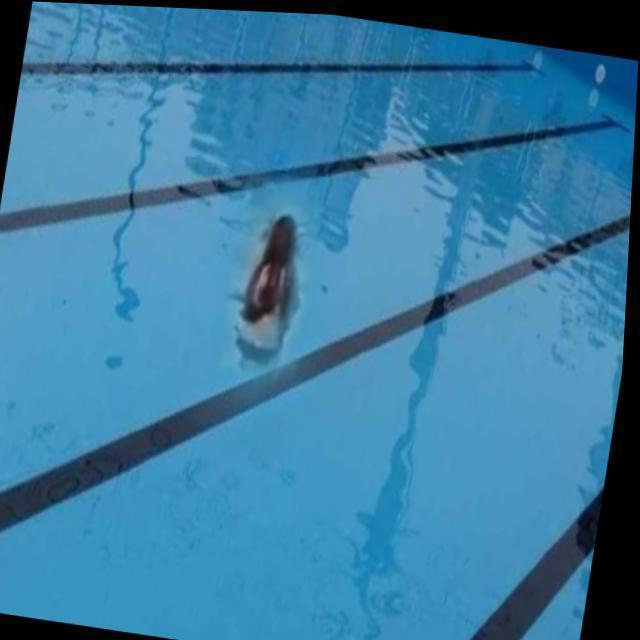swimming: (212, 193, 318, 367)
